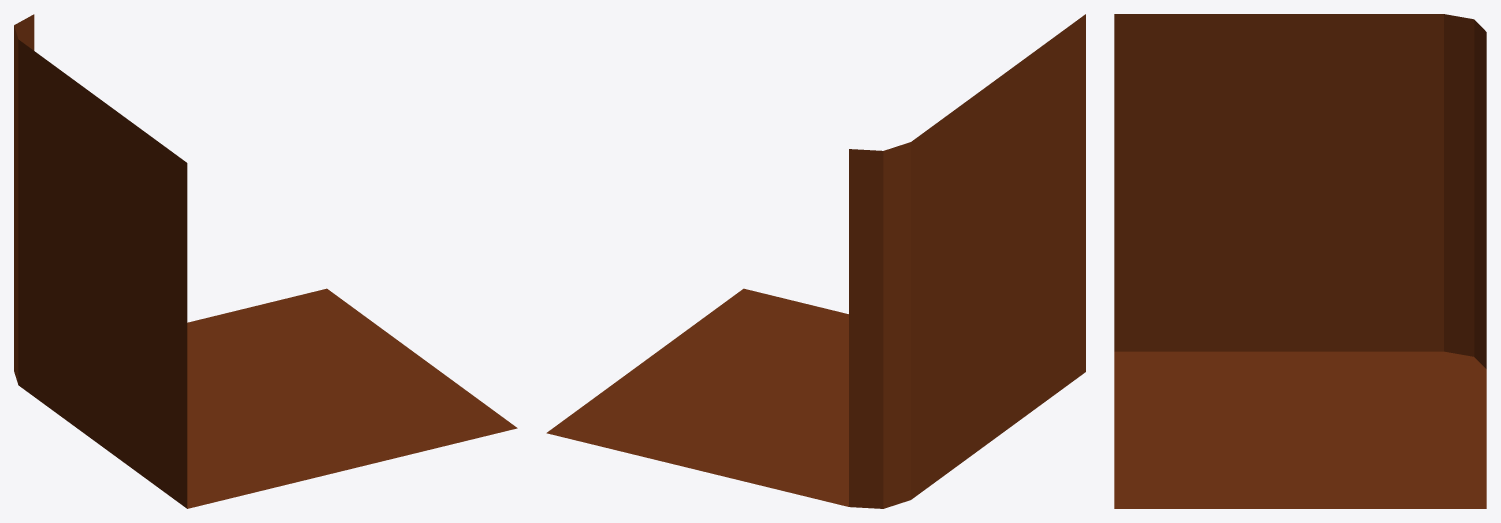
Rendered from LeftLeftDown.fbx.
3 renders of one model, left to right at view 1: azimuth 30°, elevation 25°; view 2: azimuth 150°, elevation 25°; view 3: azimuth 270°, elevation 25°, orthographic. The views are drawn at different scales.
Parts seen in each view (by area): view 1: LeftLeftDown; view 2: LeftLeftDown; view 3: LeftLeftDown.
Boxes of the visible parts, x1,y1,x2,y2 form: LeftLeftDown: (14, 14, 517, 508); LeftLeftDown: (546, 14, 1085, 508); LeftLeftDown: (1114, 14, 1486, 508).
Bounding box in the file's own units: 200 × 200 × 200.
